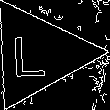L_N: (19, 28, 57, 79)
